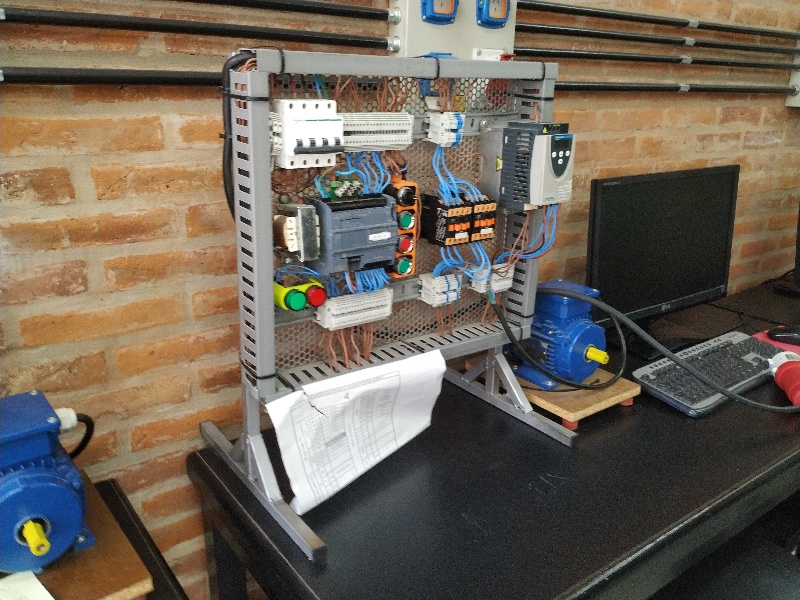Tablero 4: (263, 71, 575, 355)
